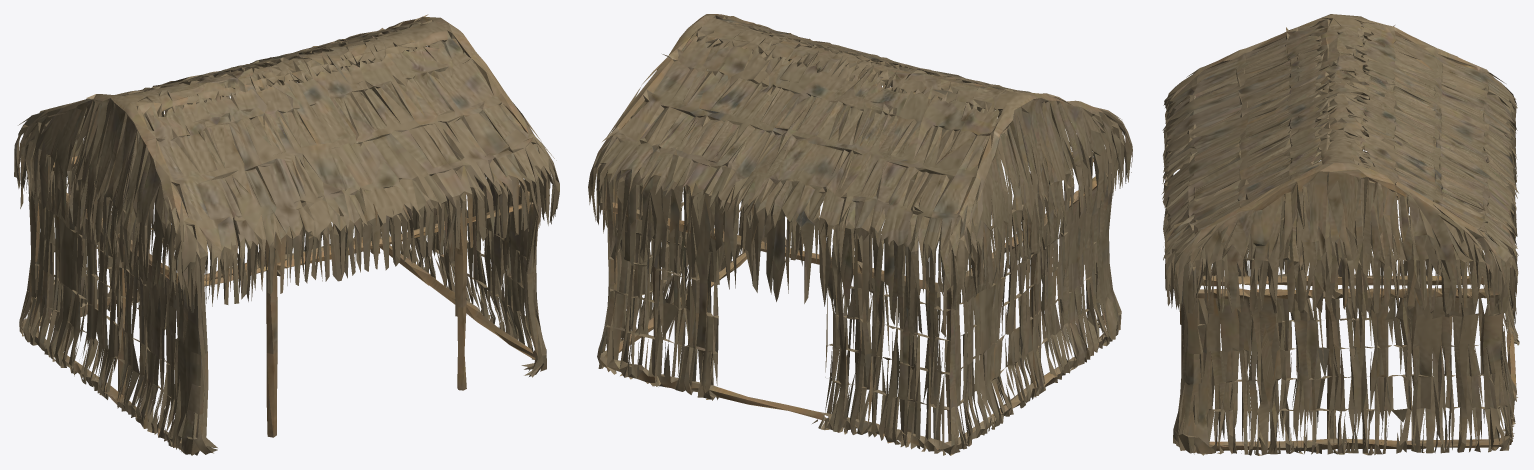
File: tettoia_paglia.glb
3 renders of one model, left to right at view 1: azimuth 30°, elevation 25°; view 2: azimuth 150°, elevation 25°; view 3: azimuth 270°, elevation 25°, orthographic. The views are drawn at different scales.
Visible parts, largest first — view 1: Mesh_0; view 2: Mesh_0; view 3: Mesh_0.
Part boxes in pixels (x1,y1,x2,y2): Mesh_0: (14, 14, 559, 455); Mesh_0: (588, 14, 1132, 455); Mesh_0: (1161, 14, 1519, 455).
Size of the model in its own units: 4 by 2.98 by 3.43.
1 material, 1 textured.
